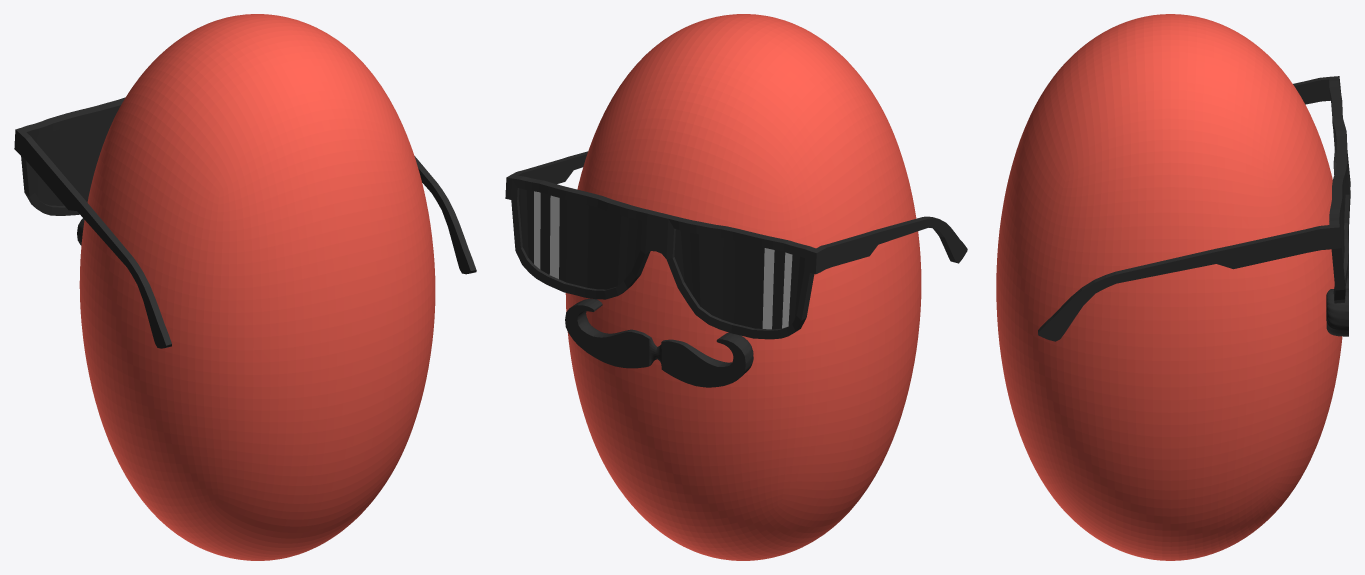
The model's file is character.glb.
3 views of the same model, side by side, from view 1: azimuth 30°, elevation 25°; view 2: azimuth 150°, elevation 25°; view 3: azimuth 270°, elevation 25° (orthographic).
Visible parts, largest first — view 1: Cube.001, Cube.002; view 2: Cube.001, Cube.002, Cube.003; view 3: Cube.001, Cube.002, Cube.003.
Part boxes in pixels (x1,y1,x2,y2): Cube.001: [79, 14, 435, 560]; Cube.002: [14, 97, 476, 348]; Cube.001: [565, 14, 921, 560]; Cube.002: [505, 151, 967, 339]; Cube.003: [565, 298, 753, 387]; Cube.001: [996, 14, 1342, 560]; Cube.002: [1038, 76, 1350, 341]; Cube.003: [1326, 230, 1348, 336].
Size of the model in its own units: 4.69 by 7.55 by 4.64.
